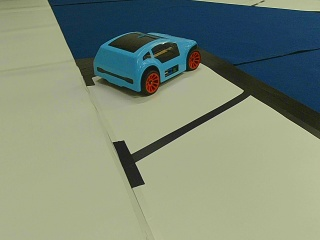car: (93, 33, 203, 96)
